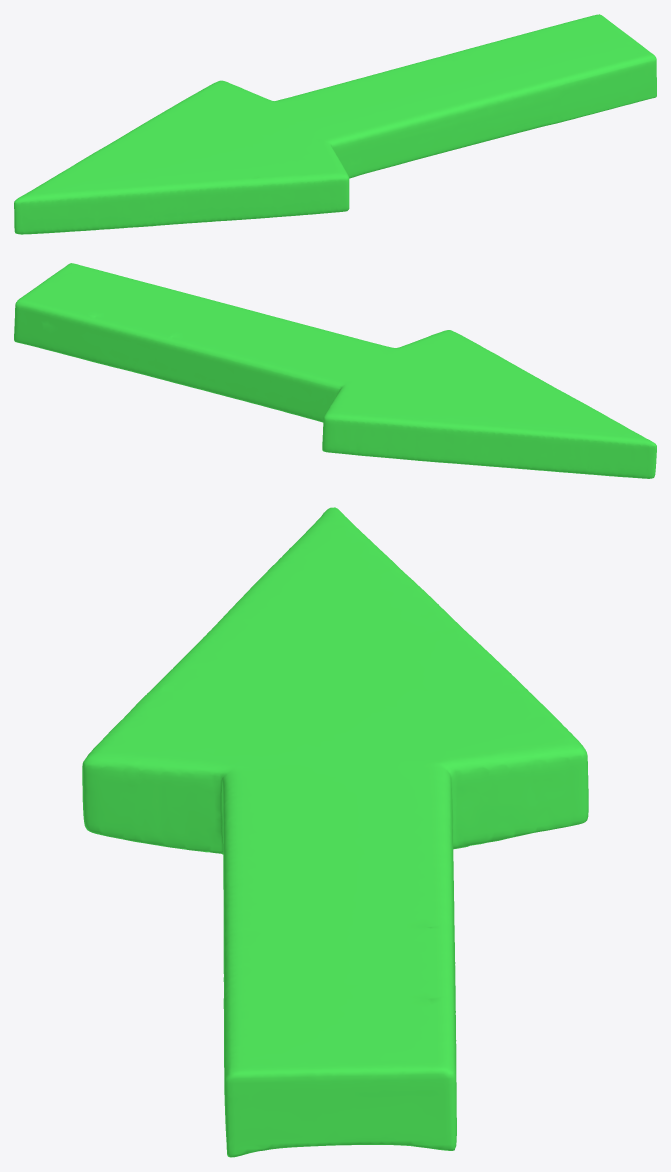
File: modelgreen.glb
The picture shows the model from 3 angles, top to bottom: view 1: azimuth 30°, elevation 25°; view 2: azimuth 150°, elevation 25°; view 3: azimuth 270°, elevation 25°; orthographic projection. The views are drawn at different scales.
Parts seen in each view (by area): view 1: Mesh_0.001; view 2: Mesh_0.001; view 3: Mesh_0.001.
Part boxes in pixels (left/top/right/bottom): Mesh_0.001: left=14, top=14, right=656, bottom=234; Mesh_0.001: left=14, top=263, right=656, bottom=478; Mesh_0.001: left=82, top=507, right=588, bottom=1157.
Size of the model in its own units: 2 by 0.1645 by 0.7163.
